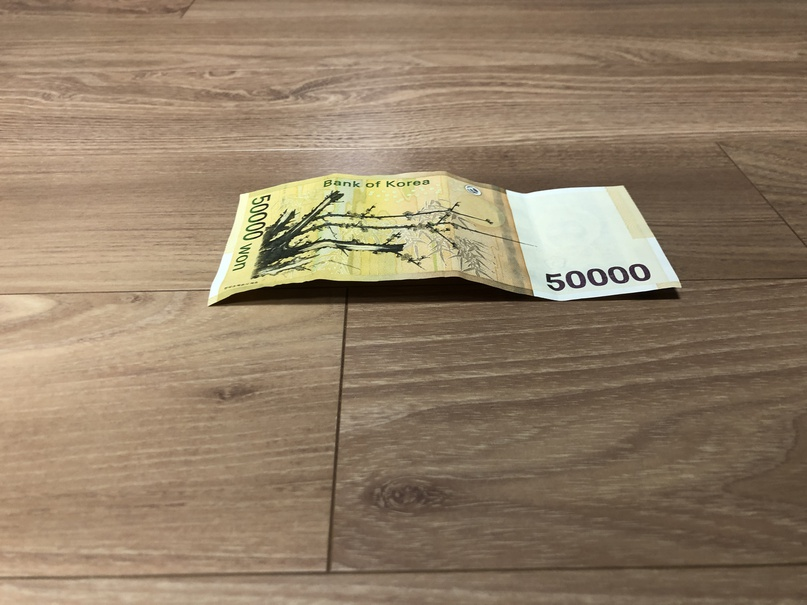50000won: (208, 171, 684, 307)
